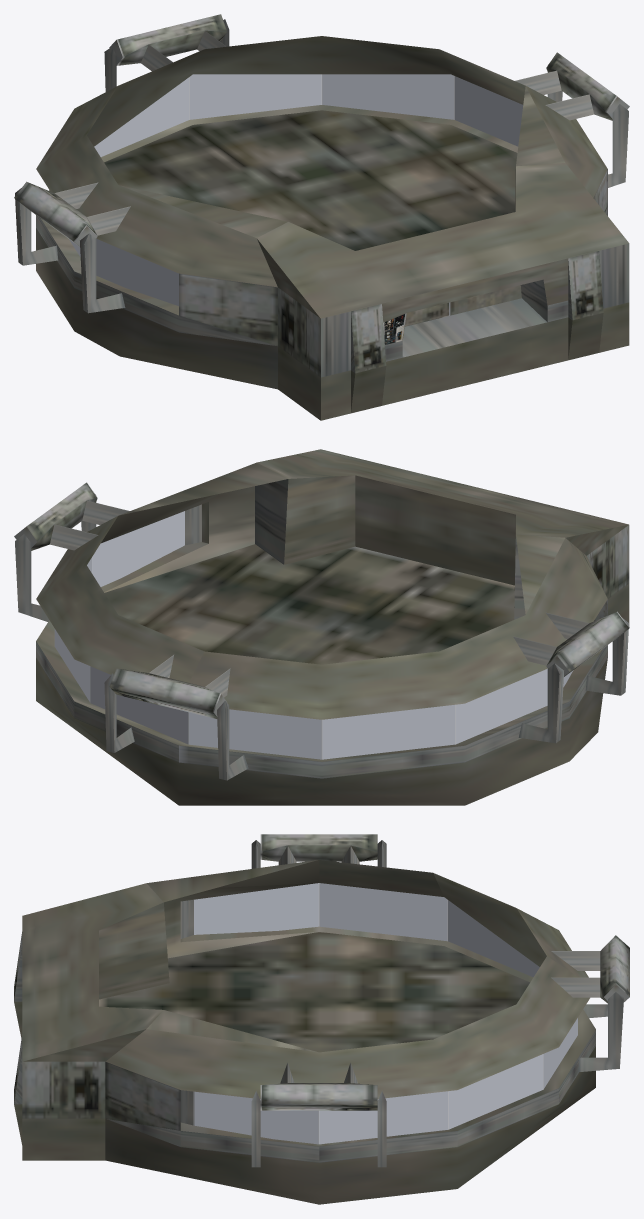
File: ins_all_craftable_creature_farm_s01_u1_l2.fbx
3 views of the same model, one above another, from view 1: azimuth 30°, elevation 25°; view 2: azimuth 150°, elevation 25°; view 3: azimuth 270°, elevation 25° (orthographic). The views are drawn at different scales.
Visible parts, largest first — view 1: mesh_node; view 2: mesh_node; view 3: mesh_node.
Part boxes in pixels (box(x1,y1,x2,y2)): mesh_node: box(14, 14, 629, 420); mesh_node: box(14, 449, 629, 805); mesh_node: box(14, 834, 629, 1204).
Bounding box in the file's own units: 29.38 × 6.86 × 29.11.
